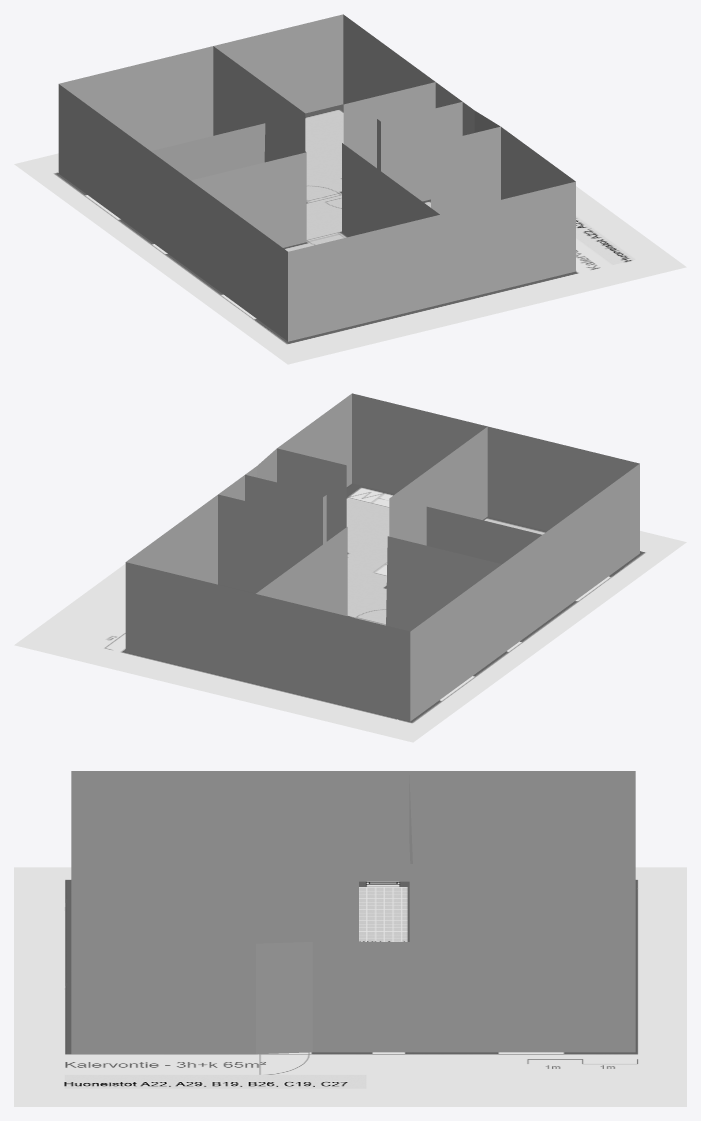
File: kalervontie_1_3hk.fbx
The picture shows the model from 3 angles, top to bottom: view 1: azimuth 30°, elevation 25°; view 2: azimuth 150°, elevation 25°; view 3: azimuth 270°, elevation 25°; orthographic projection. The views are drawn at different scales.
Parts seen in each view (by area): view 1: Walls, Floorplan; view 2: Walls, Floorplan; view 3: Walls, Floorplan.
Part boxes in pixels (x1=…): Walls: x1=58, y1=14, x2=575, y2=341; Floorplan: x1=14, y1=104, x2=686, y2=364; Walls: x1=125, y1=393, x2=639, y2=721; Floorplan: x1=14, y1=483, x2=686, y2=742; Walls: x1=71, y1=771, x2=635, y2=1054; Floorplan: x1=14, y1=867, x2=686, y2=1106.
Size of the model in its own units: 200 by 43.07 by 238.
